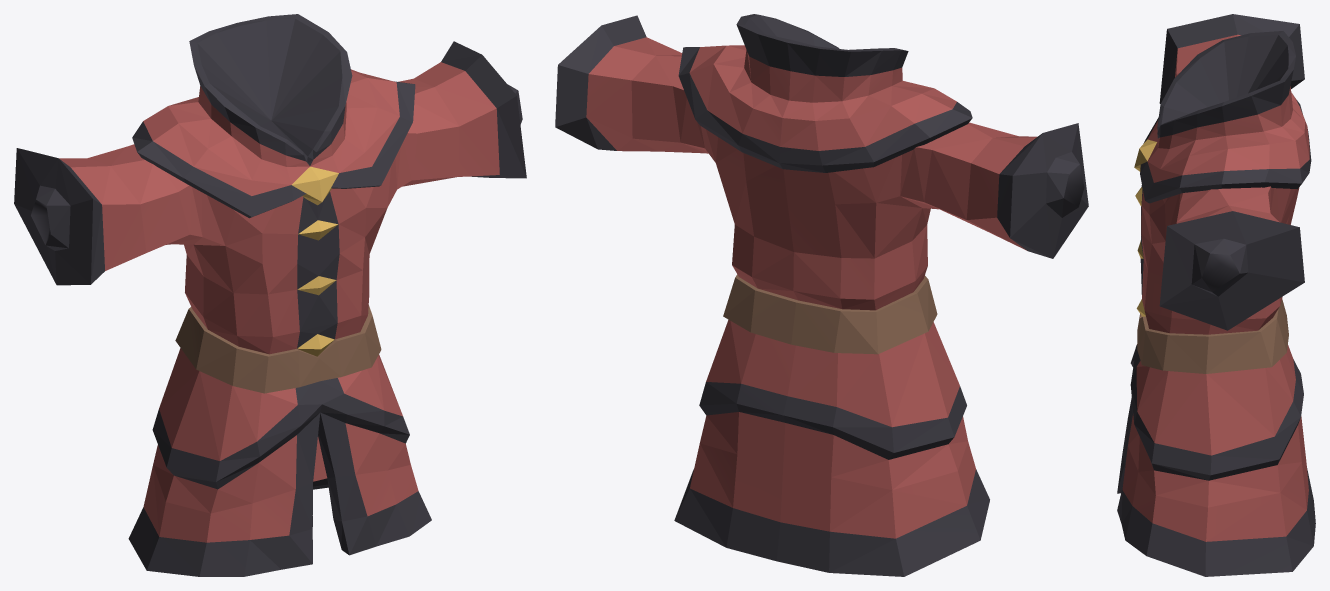
The model's file is armorWizRobeDisplay.fbx.
The picture shows the model from 3 angles, left to right: view 1: azimuth 30°, elevation 25°; view 2: azimuth 150°, elevation 25°; view 3: azimuth 270°, elevation 25°; orthographic projection. The views are drawn at different scales.
Parts seen in each view (by area): view 1: armorWizRobeDisplay; view 2: armorWizRobeDisplay; view 3: armorWizRobeDisplay.
Part boxes in pixels (<box>): armorWizRobeDisplay: <box>14,14,526,576</box>; armorWizRobeDisplay: <box>555,14,1088,576</box>; armorWizRobeDisplay: <box>1117,14,1315,576</box>.
Bounding box in the file's own units: 1.79 × 1.78 × 0.6845.
